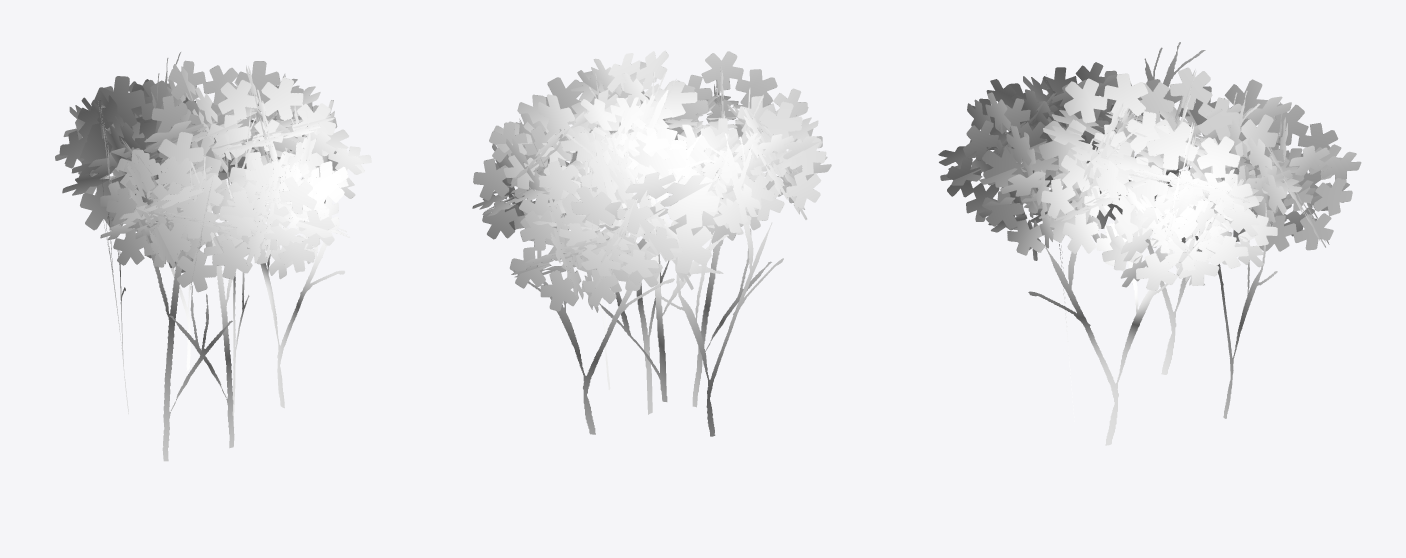
Rendered from StylisedBush3.fbx.
3 views of the same model, side by side, from view 1: azimuth 30°, elevation 25°; view 2: azimuth 150°, elevation 25°; view 3: azimuth 270°, elevation 25° (orthographic). The views are drawn at different scales.
Visible parts, largest first — view 1: Bush3; view 2: Bush3; view 3: Bush3.
Part boxes in pixels (x1,y1,x2,y2): Bush3: (55, 52, 371, 461); Bush3: (472, 50, 831, 436); Bush3: (938, 42, 1361, 445).
Bounding box in the file's own units: 294 × 374 × 346.
